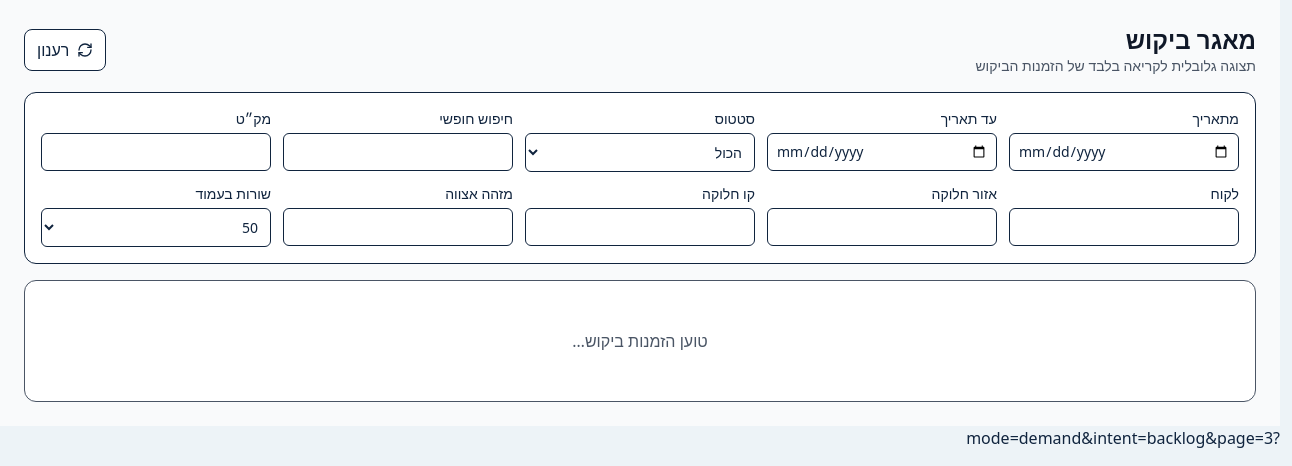
Test: DemandBacklogPanel › writes filters to URL parameters and resets the page
The image size is (1292, 466).
Type "SKU-9" into the field labelled "מק״ט" at (156,152), box [41,133,271,171]
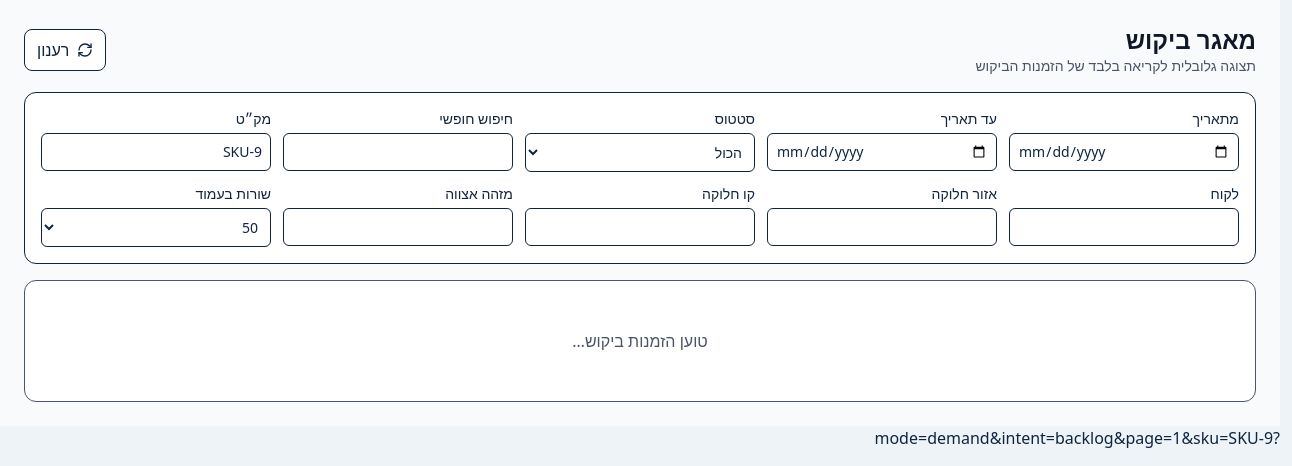
Now the text with test id "location" shows "sku=SKU-9", box [874,427,1280,449]
Now the text with test id "location" shows "page=1", box [874,427,1280,449]
